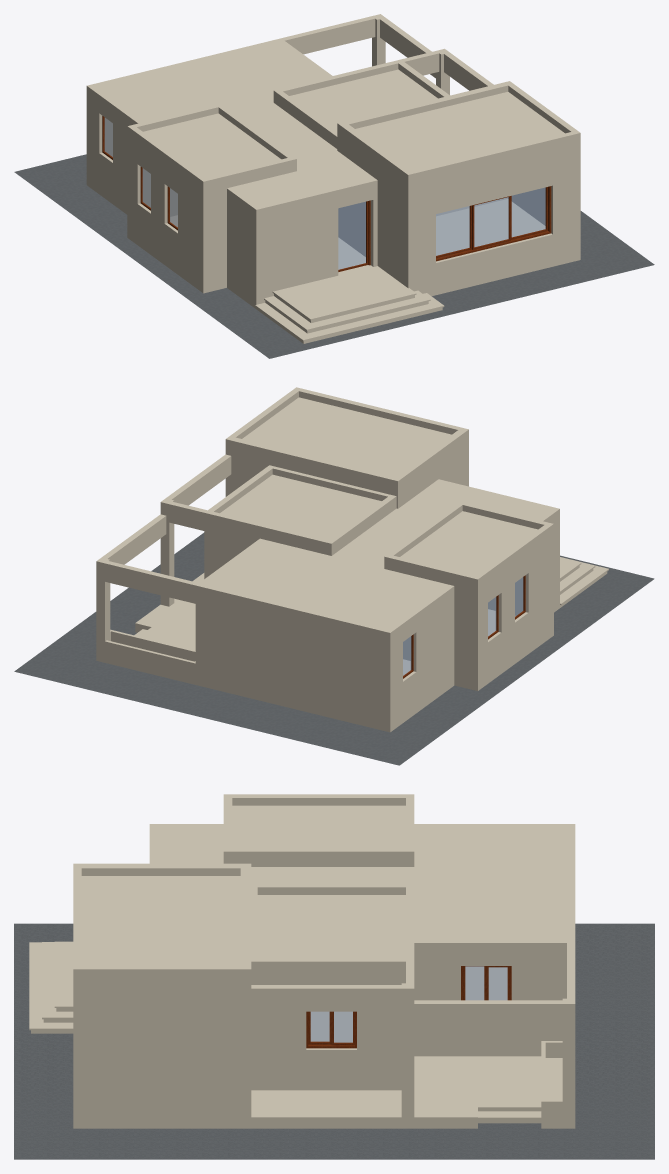
3 renders of one model, top to bottom at view 1: azimuth 30°, elevation 25°; view 2: azimuth 150°, elevation 25°; view 3: azimuth 270°, elevation 25°, orthographic. The views are drawn at different scales.
Parts seen in each view (by area): view 1: col, Root Node, Component#1; view 2: col, Root Node, Component#1; view 3: col, Root Node, Component#1.
Boxes of the visible parts, <box> form: col: <box>86,14,580,343</box>; Root Node: <box>14,154,654,358</box>; Component#1: <box>102,116,551,271</box>; col: <box>96,387,608,732</box>; Root Node: <box>14,532,654,765</box>; Component#1: <box>403,575,525,678</box>; col: <box>29,794,575,1128</box>; Root Node: <box>14,923,654,1159</box>; Component#1: <box>306,966,511,1048</box>.
Bounding box in the file's own units: 13.18 × 4.15 × 15.13.
Materials: 4 (2 with a texture image).
